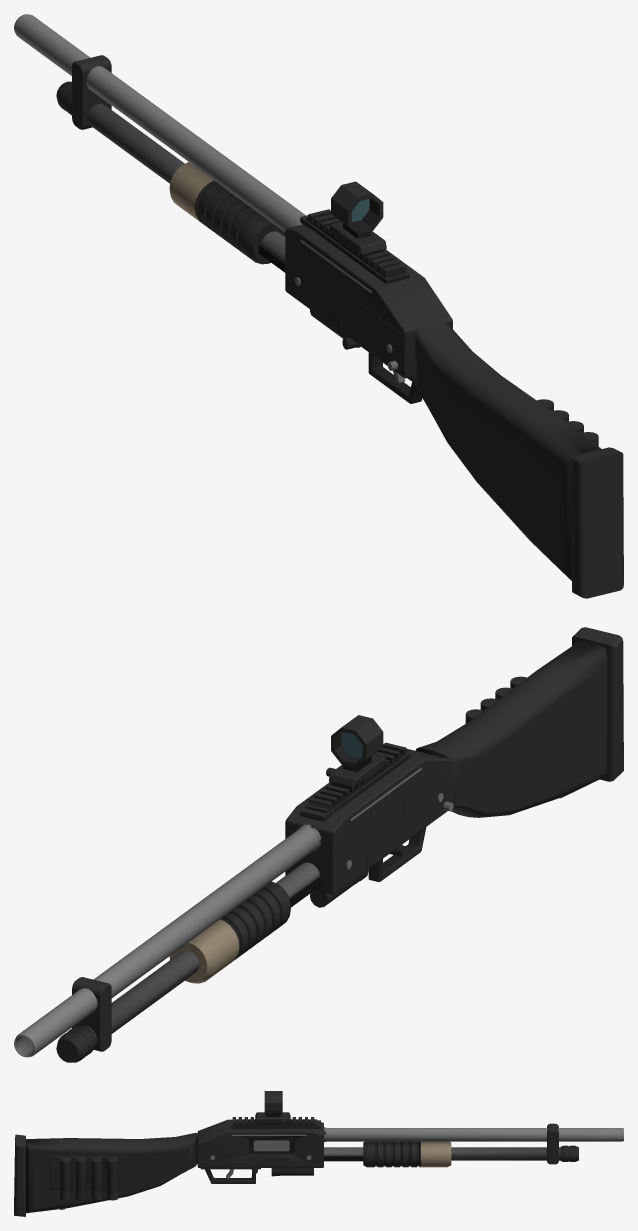
Rendered from shotgun_brenner.glb.
3 views of the same model, one above another, from view 1: azimuth 30°, elevation 25°; view 2: azimuth 150°, elevation 25°; view 3: azimuth 270°, elevation 25° (orthographic). The views are drawn at different scales.
Visible parts, largest first — view 1: Receiver, Bolt; view 2: Receiver, Bolt; view 3: Receiver, Bolt, LoadShell.
Part boxes in pixels (left/top/right/bottom): Receiver: left=14, top=14, right=623, bottom=598; Bolt: left=169, top=162, right=285, bottom=272; Receiver: left=14, top=627, right=623, bottom=1062; Bolt: left=169, top=876, right=322, bottom=983; Receiver: left=14, top=1091, right=623, bottom=1216; Bolt: left=324, top=1141, right=451, bottom=1167; LoadShell: left=271, top=1168, right=313, bottom=1176.
Size of the model in its own units: 0.0748 by 0.2187 by 1.01.
